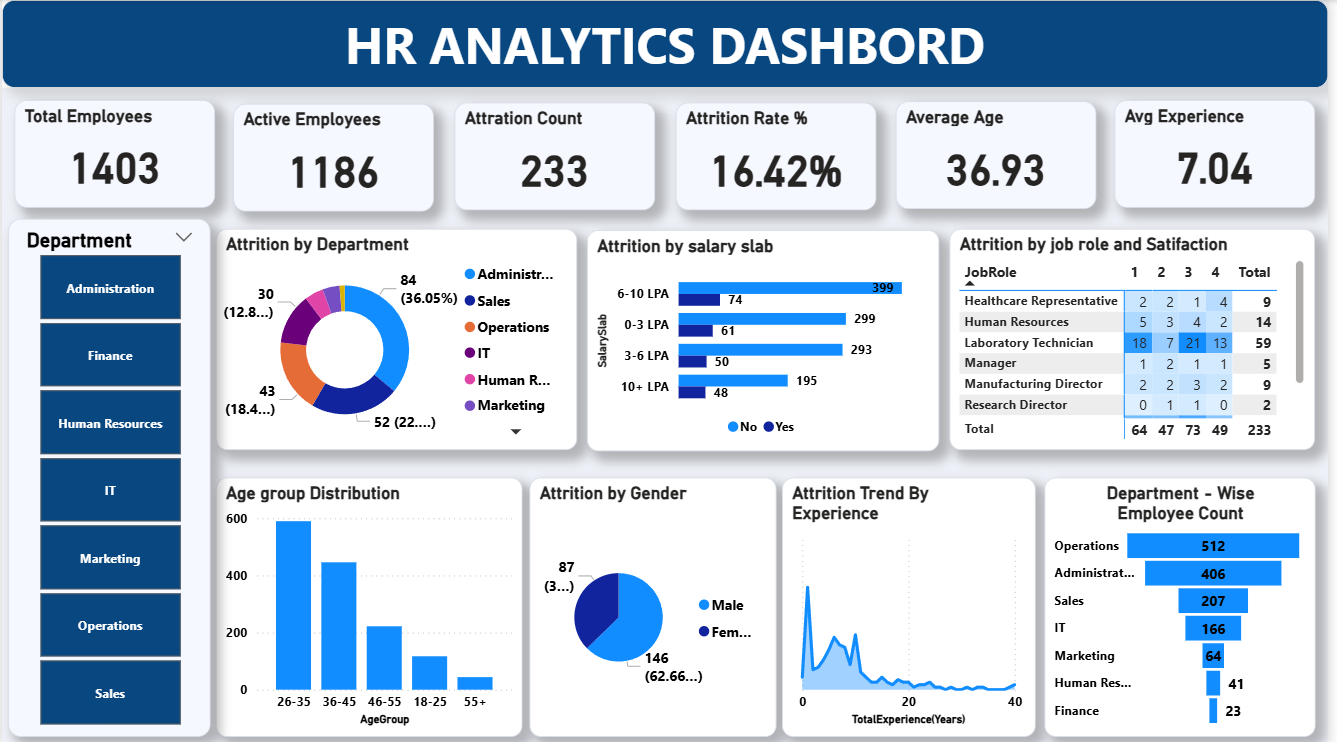

This screenshot's page, from the dashboard's own definition file:
{"tool":"powerbi","page":{"name":"Page 1","canvas":[1280,720],"ordinal":0},"visuals":[{"type":"textbox","box":[0,0,12,85],"z":0},{"type":"textbox","box":[0,0,1280,85],"z":1000},{"type":"card","title":"Total Employees","fields":{"Values":["Count(HR_Analytics-4.EmpID)"]},"box":[12.5,96.2,193.8,103.8],"z":2000},{"type":"card","title":"Active Employees","fields":{"Values":["Sum(HR_Analytics-4.EmployeeCount)"]},"box":[223.8,100,193.8,103.8],"z":3000},{"type":"card","title":"Attration Count","fields":{"Values":["Sum(HR_Analytics-4.AttritionCount)"]},"box":[436.2,98.8,193.8,103.8],"z":4000},{"type":"card","title":"Attrition Rate %","fields":{"Values":["HR_Analytics-4.Attrition Rate %"]},"box":[650,98.8,193.8,103.8],"z":5000},{"type":"card","title":"Average Age","fields":{"Values":["Avg(HR_Analytics-4.Age)"]},"box":[862.5,97.5,193.8,103.8],"z":6000},{"type":"card","title":"Avg Experience","fields":{"Values":["Avg(HR_Analytics-4.YearsatCompany)"]},"box":[1073.8,96.2,193.8,103.8],"z":7000},{"type":"donutChart","title":"Attrition by Department","fields":{"Category":["HR_Analytics-4.Department"],"Y":["Sum(HR_Analytics-4.AttritionCount)"]},"box":[206.2,221.2,348.8,213.8],"z":8000},{"type":"clusteredBarChart","title":"Attrition by salary slab","fields":{"Y":["CountNonNull(HR_Analytics-4.EmpID)"],"Category":["HR_Analytics-4.SalarySlab"],"Series":["HR_Analytics-4.Attrition"]},"box":[565,222.5,340,213.8],"z":9000},{"type":"pivotTable","title":"Attrition by job role and Satifaction","fields":{"Rows":["HR_Analytics-4.JobRole"],"Values":["Sum(HR_Analytics-4.AttritionCount)"],"Columns":["HR_Analytics-4.JobSatisfaction"]},"box":[915,221.2,352.5,213.8],"z":10000},{"type":"columnChart","title":"Age group Distribution","fields":{"Y":["Sum(HR_Analytics-4.EmployeeCount)"],"Category":["HR_Analytics-4.AgeGroup"]},"box":[206.2,461.2,296.2,250],"z":11000},{"type":"pieChart","title":"Attrition by Gender","fields":{"Category":["HR_Analytics-4.Gender"],"Y":["Sum(HR_Analytics-4.AttritionCount)"]},"box":[508.8,461.2,238.8,250],"z":12000},{"type":"areaChart","title":"Attrition Trend By Experience ","fields":{"Category":["HR_Analytics-4.TotalExperience(Years)"],"Y2":["Sum(HR_Analytics-4.AttritionCount)"]},"box":[752.5,461.2,245,250],"z":13000},{"type":"funnel","title":"Department - Wise Employee Count","fields":{"Category":["HR_Analytics-4.Department"],"Y":["CountNonNull(HR_Analytics-4.EmpID)"]},"box":[1006.2,461.2,261.2,250],"z":14000},{"type":"slicer","fields":{"Values":["HR_Analytics-4.Department"]},"box":[6.2,211.2,195,500],"z":15000}]}

Visuals, with their boxes in screenshot pixels (x1, y1, x2, y2), scaled from the page's 1280x720 canvas onto the 1337x742 screenshot:
textbox: pyautogui.locateOnScreen(0, 0, 13, 88)
textbox: pyautogui.locateOnScreen(0, 0, 1336, 88)
"Total Employees" card: pyautogui.locateOnScreen(13, 99, 215, 206)
"Active Employees" card: pyautogui.locateOnScreen(234, 103, 436, 210)
"Attration Count" card: pyautogui.locateOnScreen(456, 102, 658, 209)
"Attrition Rate %" card: pyautogui.locateOnScreen(679, 102, 881, 209)
"Average Age" card: pyautogui.locateOnScreen(901, 100, 1103, 207)
"Avg Experience" card: pyautogui.locateOnScreen(1122, 99, 1324, 206)
"Attrition by Department" donutChart: pyautogui.locateOnScreen(215, 228, 580, 448)
"Attrition by salary slab" clusteredBarChart: pyautogui.locateOnScreen(590, 229, 945, 450)
"Attrition by job role and Satifaction" pivotTable: pyautogui.locateOnScreen(956, 228, 1324, 448)
"Age group Distribution" columnChart: pyautogui.locateOnScreen(215, 475, 525, 733)
"Attrition by Gender" pieChart: pyautogui.locateOnScreen(531, 475, 781, 733)
"Attrition Trend By Experience " areaChart: pyautogui.locateOnScreen(786, 475, 1042, 733)
"Department - Wise Employee Count" funnel: pyautogui.locateOnScreen(1051, 475, 1324, 733)
slicer - HR_Analytics-4.Department: pyautogui.locateOnScreen(6, 218, 210, 733)
